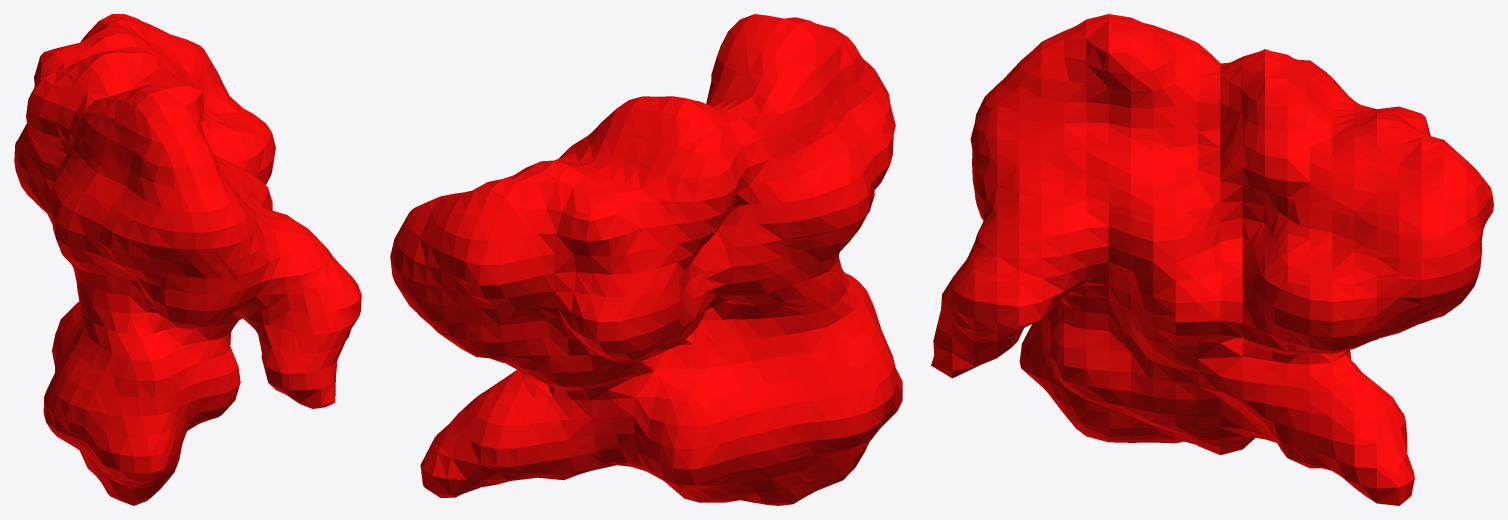
Rendered from rpsJ_coarse.dae.
The picture shows the model from 3 angles, left to right: view 1: azimuth 30°, elevation 25°; view 2: azimuth 150°, elevation 25°; view 3: azimuth 270°, elevation 25°; orthographic projection. The views are drawn at different scales.
Visible parts, largest first — view 1: rpsJ; view 2: rpsJ; view 3: rpsJ.
Part boxes in pixels (box(x1,y1,x2,y2)): rpsJ: box(14, 14, 361, 505); rpsJ: box(390, 14, 902, 505); rpsJ: box(931, 14, 1493, 505).
Bounding box in the file's own units: 50.97 × 63.42 × 74.23.
